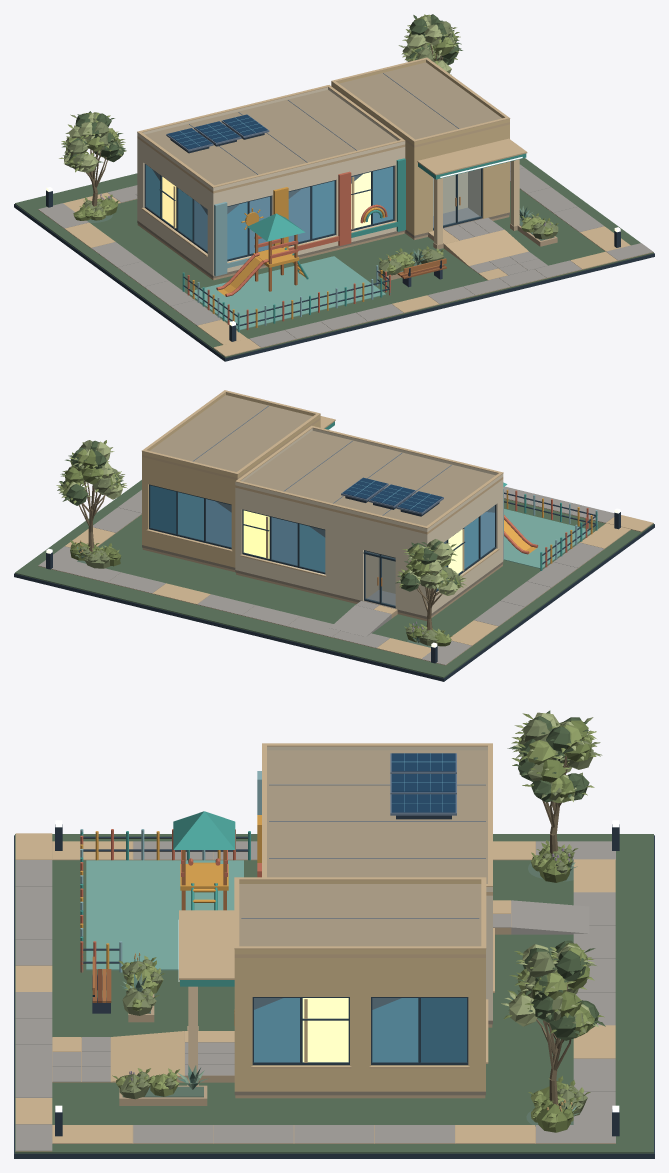
Rendered from guarderia.fbx.
3 views of the same model, one above another, from view 1: azimuth 30°, elevation 25°; view 2: azimuth 150°, elevation 25°; view 3: azimuth 270°, elevation 25° (orthographic). The views are drawn at different scales.
Parts seen in each view (by area): view 1: Marquesinas, Islas de plantacion, Senderos y explanadas, Muros, Equipamiento de fachada, Acristalamiento opaco, Remates minerales, Marcos y lamas, Piedra y bordillos, Arbol 01, Setos y herbaceas, Arbol 02 (+2 smaller); view 2: Marquesinas, Islas de plantacion, Muros, Senderos y explanadas, Acristalamiento opaco, Equipamiento de fachada, Arbol 02, Arbol 01, Piedra y bordillos, Remates minerales, Marcos y lamas, Setos y herbaceas (+1 smaller); view 3: Islas de plantacion, Marquesinas, Senderos y explanadas, Equipamiento de fachada, Muros, Acristalamiento opaco, Arbol 02, Setos y herbaceas, Arbol 01, Piedra y bordillos, Remates minerales, Marcos y lamas (+1 smaller).
Part boxes in pixels (<box>): Marquesinas: <box>137,57,527,193</box>; Islas de plantacion: <box>15,158,653,357</box>; Senderos y explanadas: <box>38,161,653,356</box>; Muros: <box>137,124,509,275</box>; Equipamiento de fachada: <box>166,114,390,332</box>; Acristalamiento opaco: <box>146,165,393,259</box>; Remates minerales: <box>137,158,519,280</box>; Marcos y lamas: <box>144,164,482,268</box>; Piedra y bordillos: <box>14,204,654,361</box>; Arbol 01: <box>59,111,126,206</box>; Setos y herbaceas: <box>73,193,558,275</box>; Arbol 02: <box>398,14,462,74</box>; Marquesinas: <box>142,390,503,534</box>; Islas de plantacion: <box>15,480,653,678</box>; Muros: <box>142,420,503,616</box>; Senderos y explanadas: <box>38,486,653,665</box>; Acristalamiento opaco: <box>150,485,494,588</box>; Equipamiento de fachada: <box>341,477,597,570</box>; Arbol 02: <box>56,440,127,551</box>; Arbol 01: <box>395,539,466,630</box>; Piedra y bordillos: <box>14,524,654,681</box>; Remates minerales: <box>142,488,503,620</box>; Marcos y lamas: <box>149,484,496,608</box>; Setos y herbaceas: <box>70,540,452,646</box>; Islas de plantacion: <box>15,834,653,1153</box>; Marquesinas: <box>178,743,492,986</box>; Senderos y explanadas: <box>15,833,615,1151</box>; Equipamiento de fachada: <box>80,753,456,972</box>; Muros: <box>234,895,492,1091</box>; Acristalamiento opaco: <box>253,998,467,1062</box>; Arbol 02: <box>501,940,605,1104</box>; Setos y herbaceas: <box>112,840,590,1132</box>; Arbol 01: <box>507,710,602,853</box>; Piedra y bordillos: <box>14,835,654,1158</box>; Remates minerales: <box>187,771,494,1098</box>; Marcos y lamas: <box>234,997,468,1065</box>.
Bounding box in the file's own units: 20 × 5.26 × 17.
